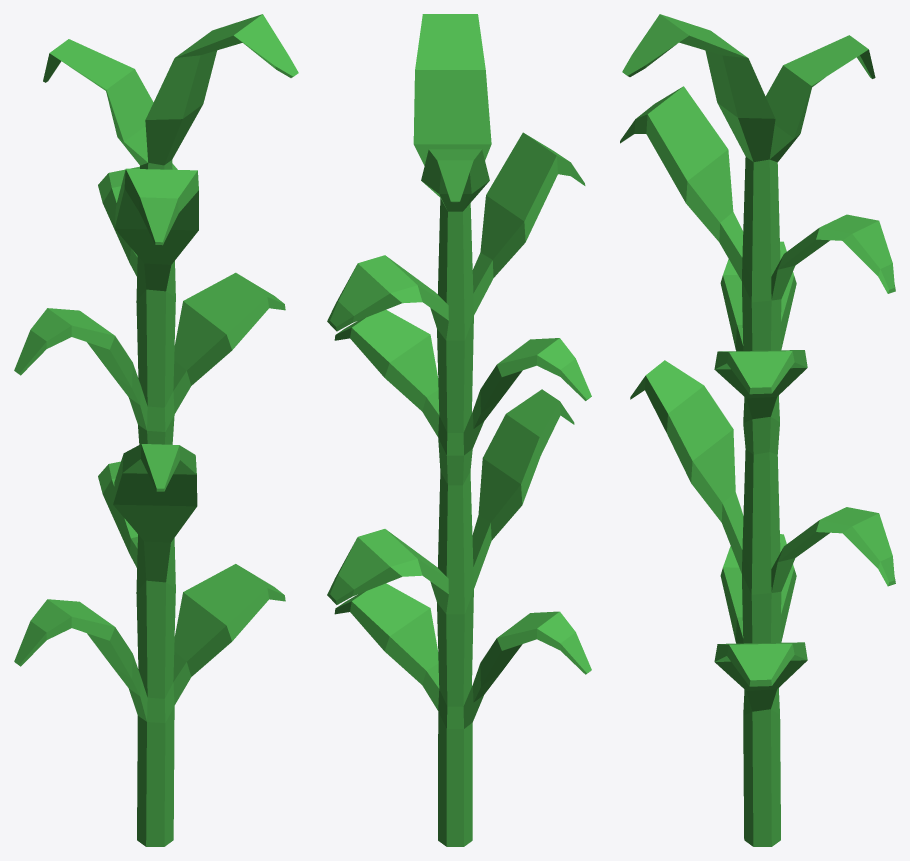
Rendered from 3-corn.glb.
3 renders of one model, left to right at view 1: azimuth 30°, elevation 25°; view 2: azimuth 150°, elevation 25°; view 3: azimuth 270°, elevation 25°, orthographic. The views are drawn at different scales.
Visible parts, largest first — view 1: corn; view 2: corn; view 3: corn.
Boxes of the visible parts, x1,y1,x2,y2 form: corn: (14,14,298,846); corn: (327,14,591,846); corn: (620,14,895,846).
Size of the model in its own units: 1.32 by 3.98 by 1.19.
